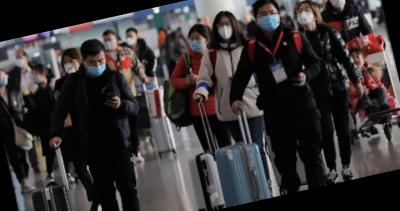with_mask: (257, 7, 284, 35), (294, 4, 317, 29), (85, 56, 109, 79), (216, 19, 235, 42), (187, 33, 206, 55), (62, 58, 79, 76), (102, 35, 117, 53), (31, 72, 44, 86), (14, 55, 26, 69), (125, 32, 137, 46)
without_mask: (351, 52, 366, 71)
